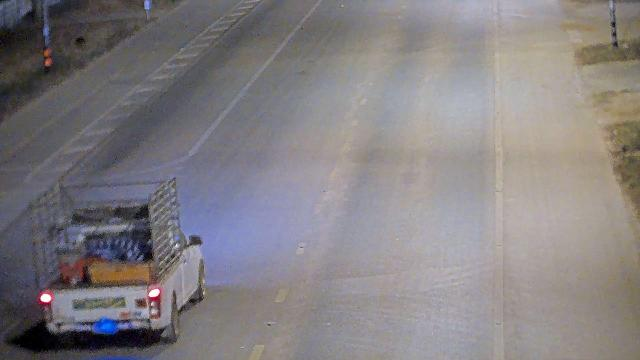pickup-truck: (34, 175, 206, 344)
